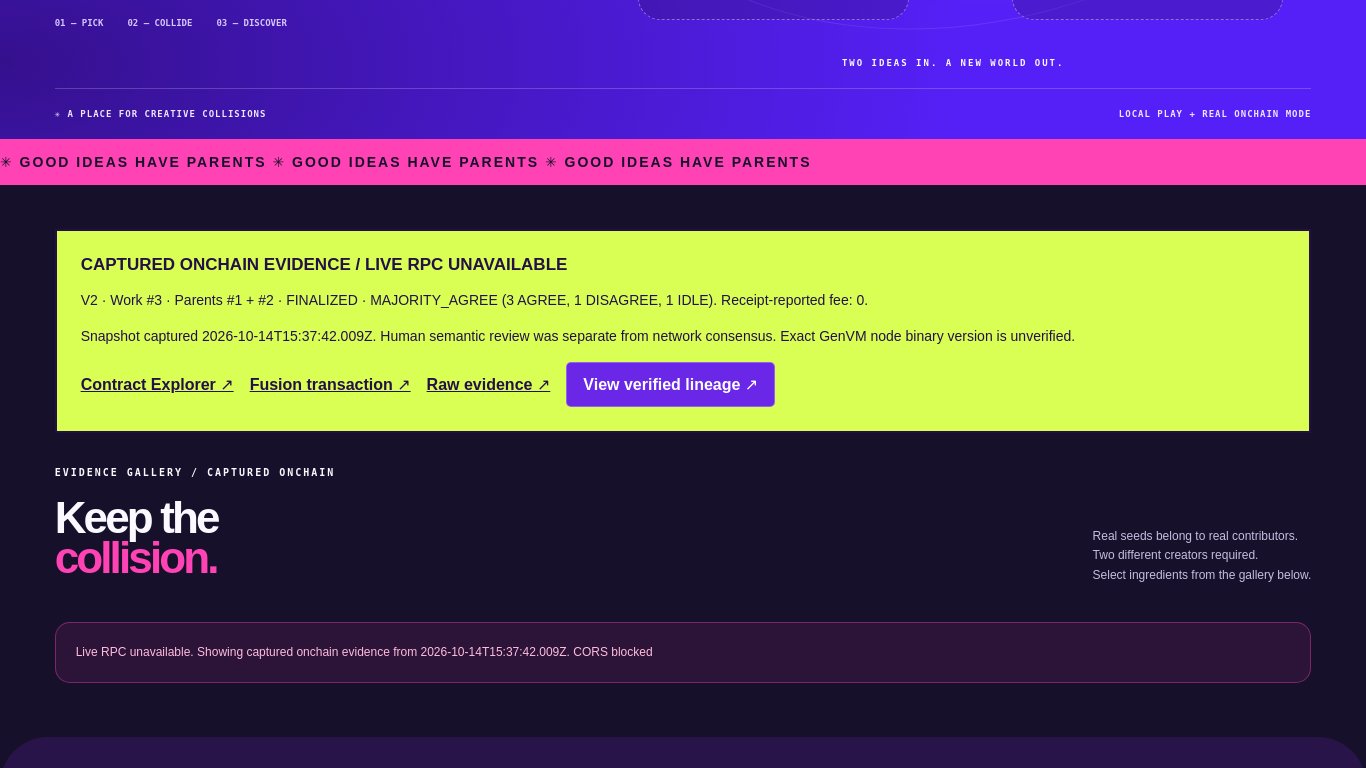
RPC failure labels genuine captured evidence and disables live operations
This screenshot has width=1366, height=768.
(page scrolled)
Check: the text "CAPTURED ONCHAIN EVIDENCE / LIVE RPC UNAVAILABLE" is shown, box [81,255,567,274]
Click the button "View verified lineage ↗": x=671, y=384 [566,362,775,407]
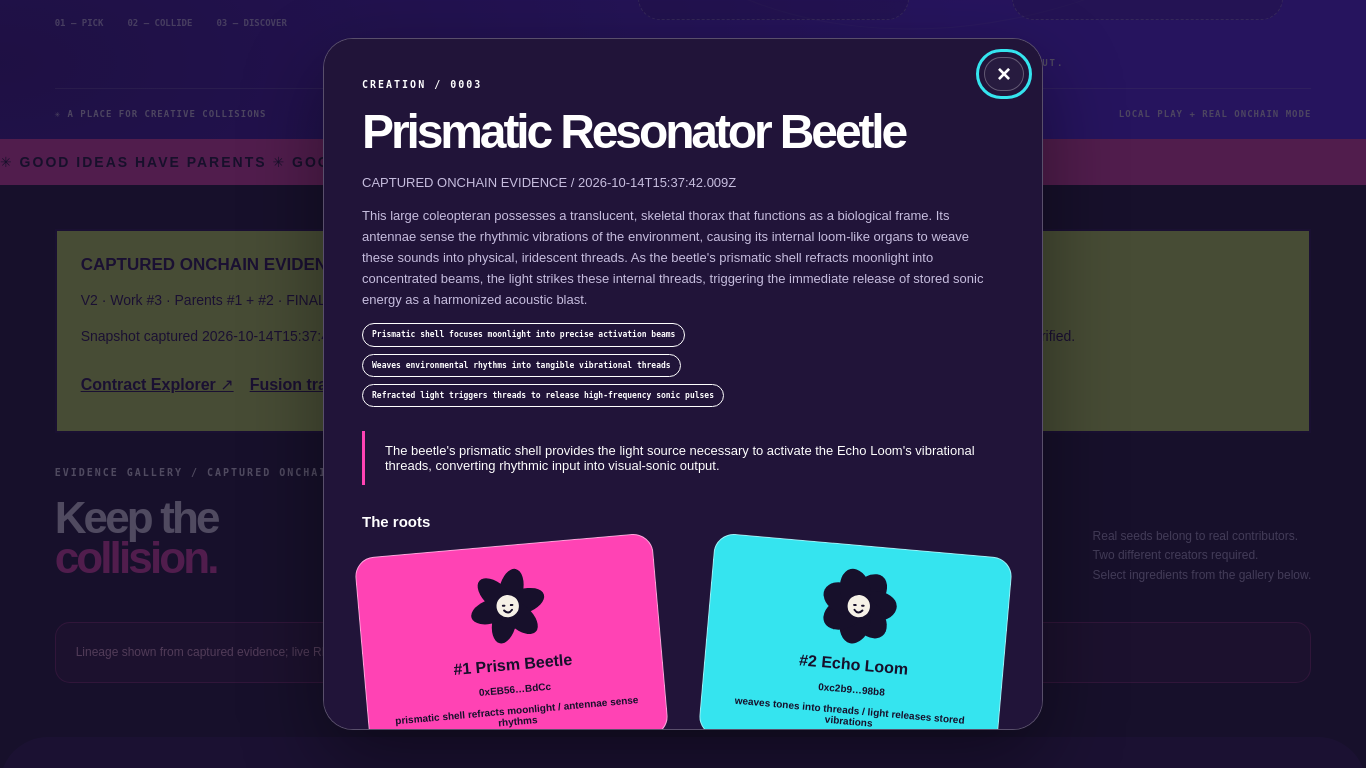
Check: the heading "Prismatic Resonator Beetle" is shown, box [362,110,940,155]
